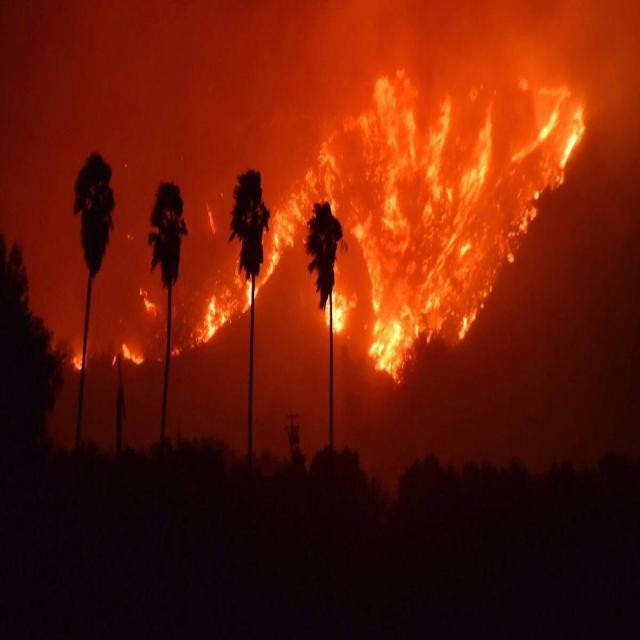Fire: (246, 51, 617, 365), (44, 152, 248, 382)
